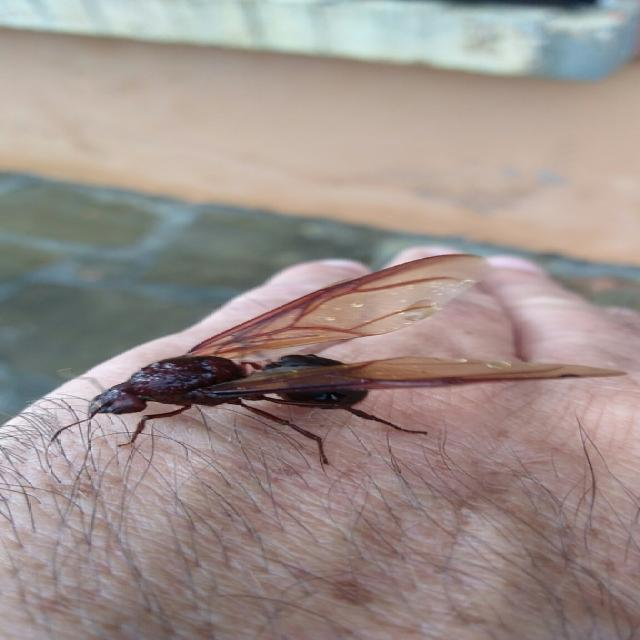Alive-Female-Alate: (49, 254, 628, 465)
